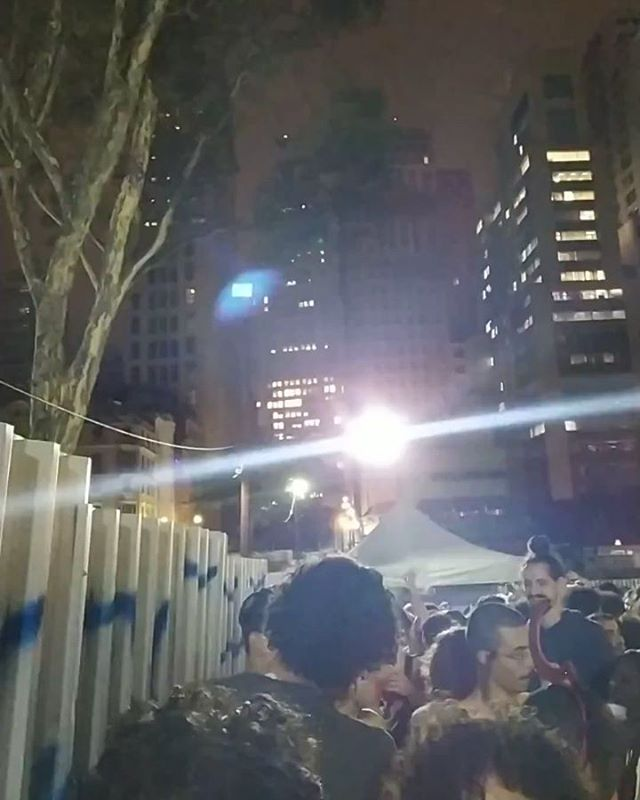building: (271, 105, 501, 504), (503, 1, 640, 499)
tree: (1, 1, 244, 450)
